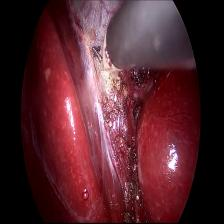Hook: (90, 28, 121, 85)
